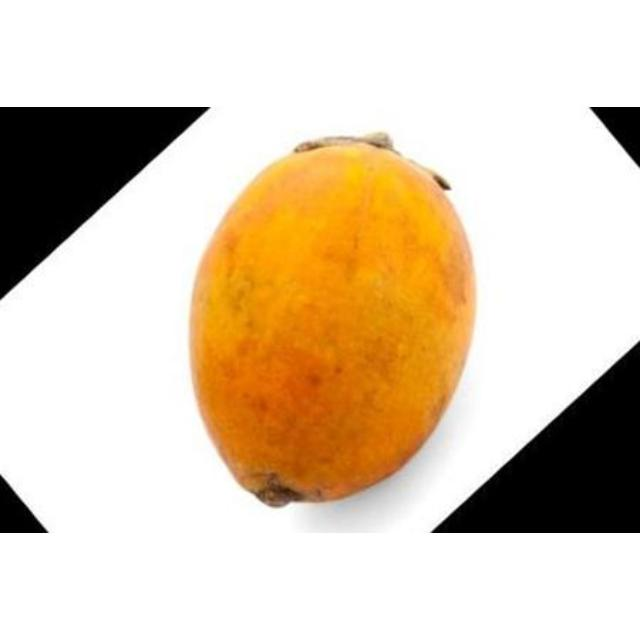good: (188, 138, 479, 511)
